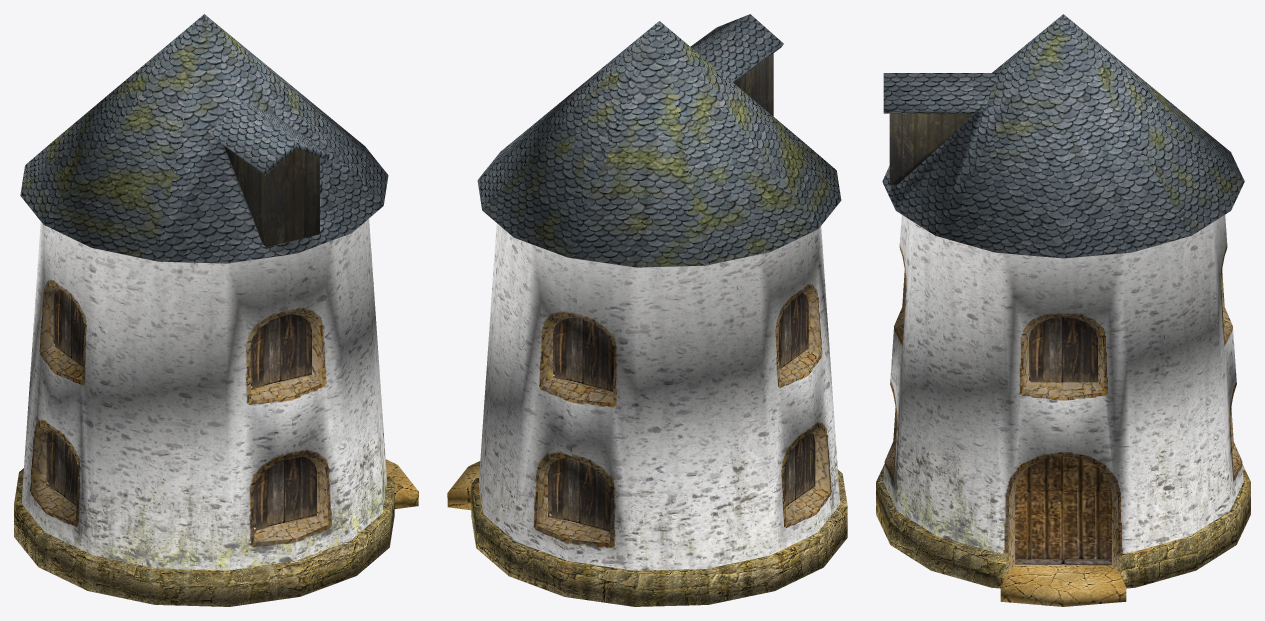
File: windmillbuilding.obj
3 views of the same model, side by side, from view 1: azimuth 30°, elevation 25°; view 2: azimuth 150°, elevation 25°; view 3: azimuth 270°, elevation 25° (orthographic). The views are drawn at different scales.
Parts seen in each view (by area): view 1: Default; view 2: Default; view 3: Default.
Boxes of the visible parts, bbox=[...] form: Default: bbox=[14, 14, 418, 606]; Default: bbox=[447, 14, 847, 606]; Default: bbox=[876, 14, 1250, 606].
Size of the model in its own units: 6.75 by 9.21 by 6.24.
